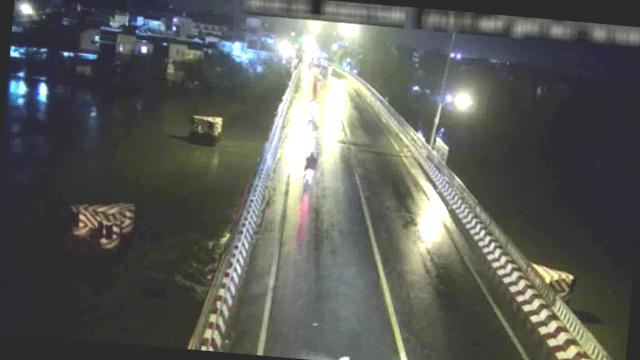Bike: (302, 150, 320, 190), (306, 100, 320, 121)
